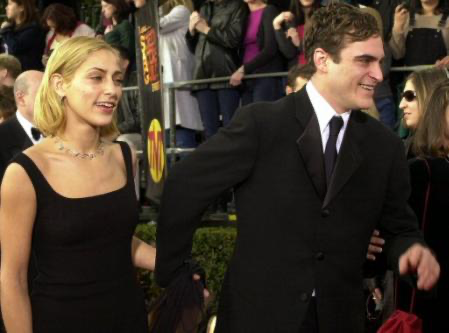Face: (72, 59, 129, 130), (342, 43, 387, 113), (397, 79, 423, 129)
